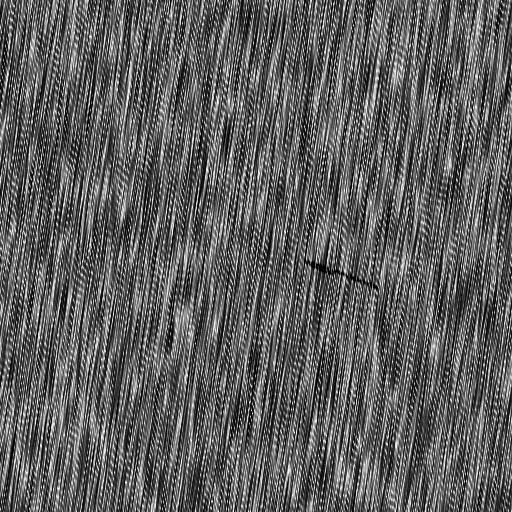DefectTypeC: (303, 256, 384, 290)
